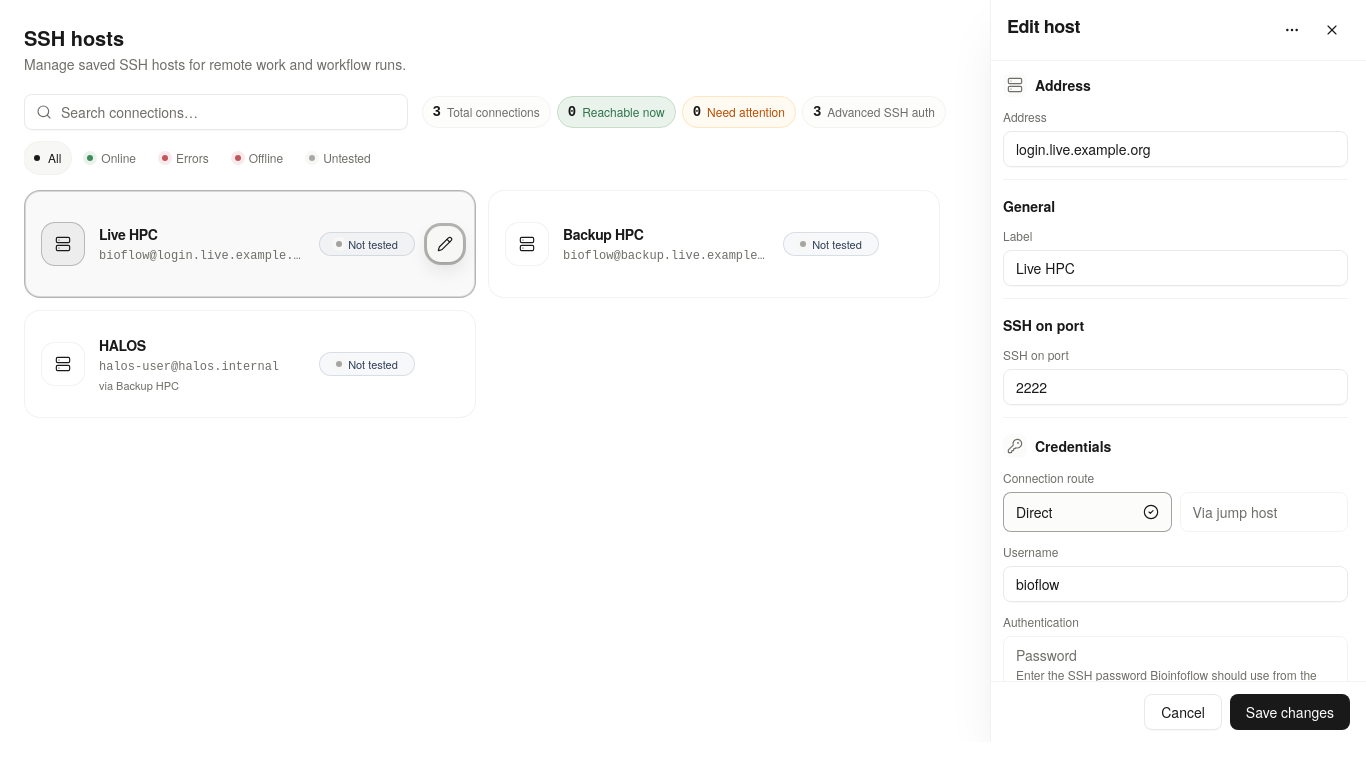
Test: ConnectionsPage › offers direct and jump routes while excluding jump and edited candidates
The image size is (1366, 768).
Earlier steps of the test are not shown.
Expected: the text "Connection route" is shown, [1003,469,1094,486]
Expected: the element named "Connection route" is shown, [1003,492,1348,532]
Click the button "Via jump host". click: [1264, 512]
box: [1180,492,1348,532]
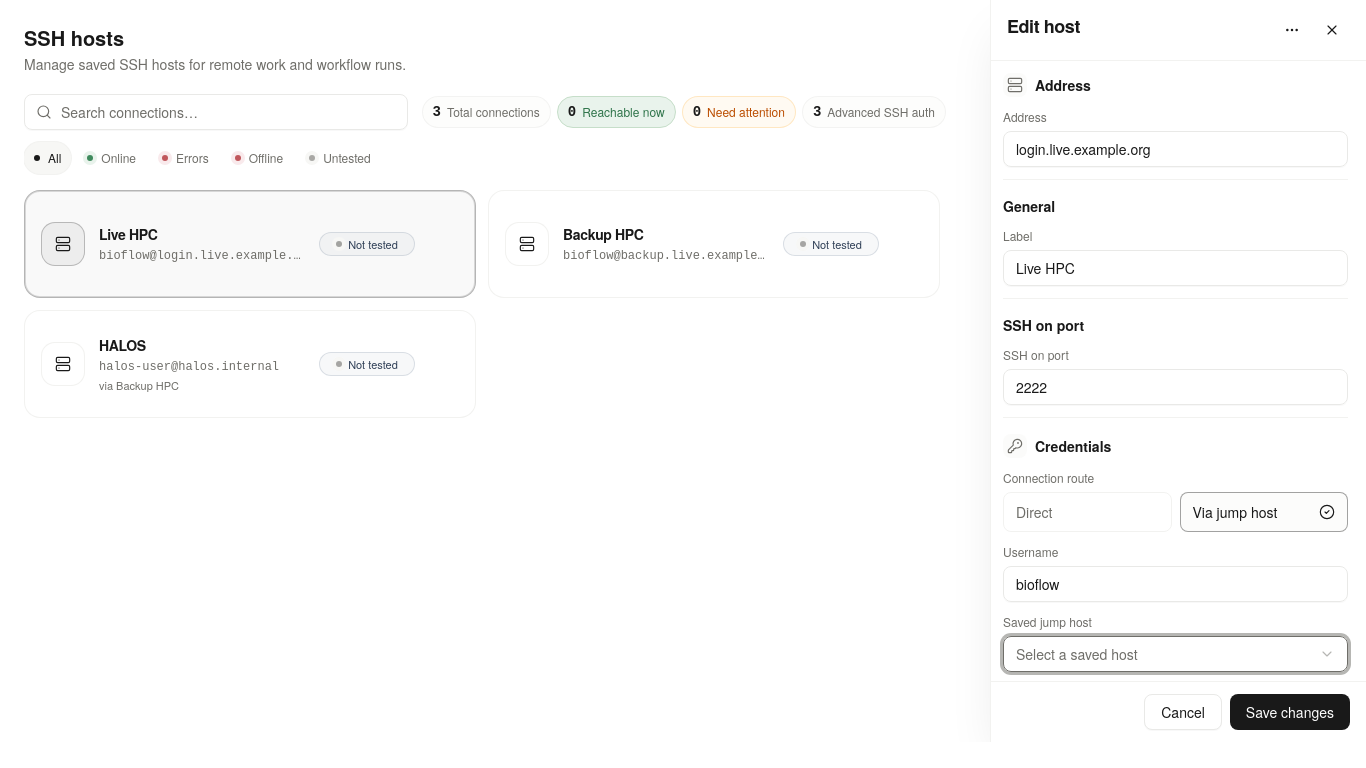
Press Arrowdown
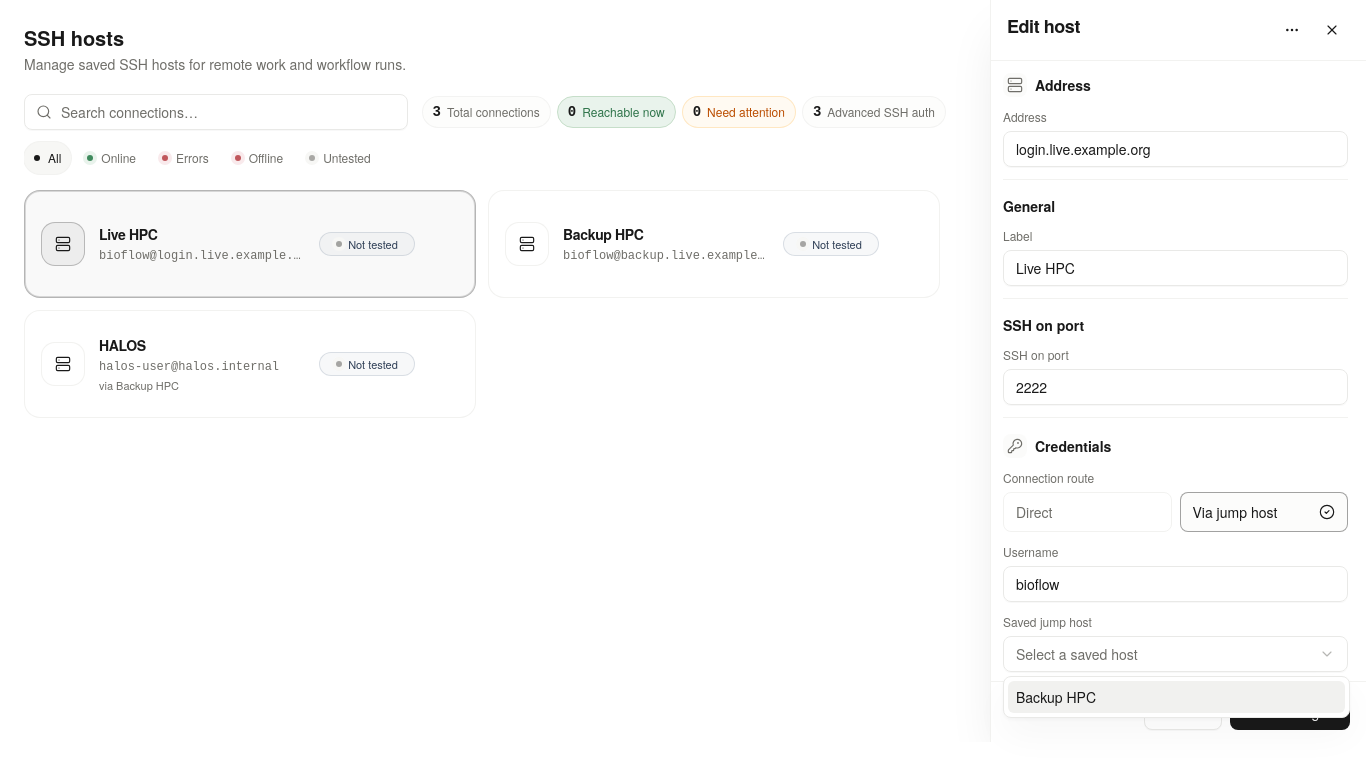
Expected: the text "Authentication" is not shown
Expected: the option "Backup HPC" is shown, [1008,681,1345,713]
